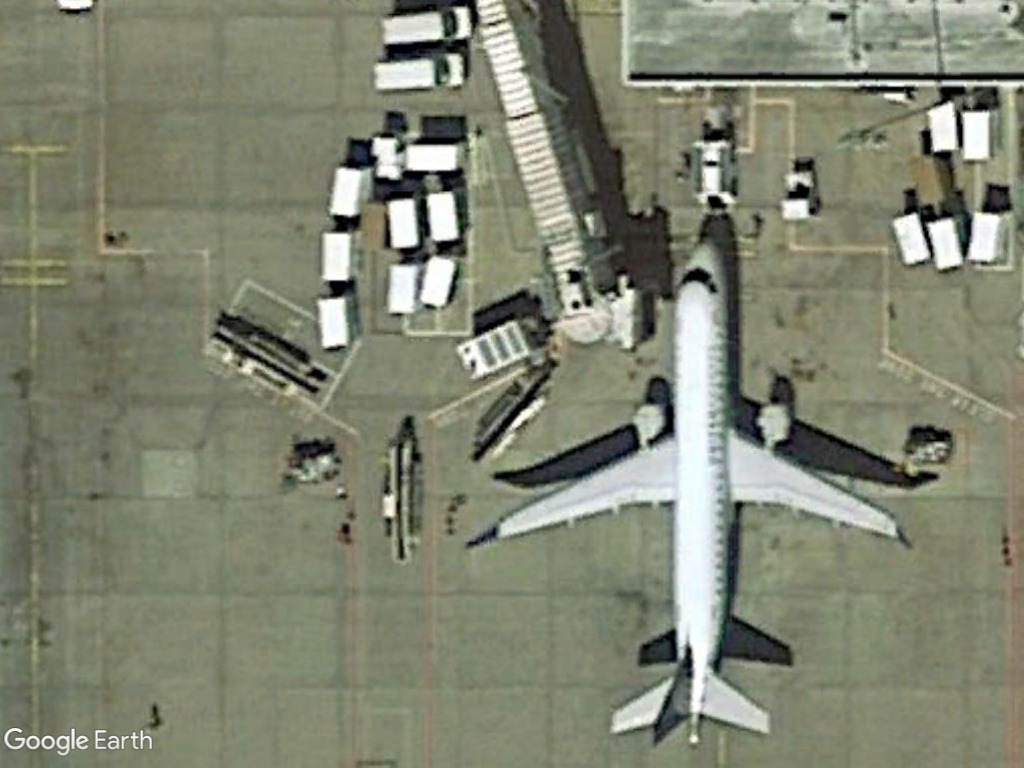airliner: (478, 229, 917, 753)
